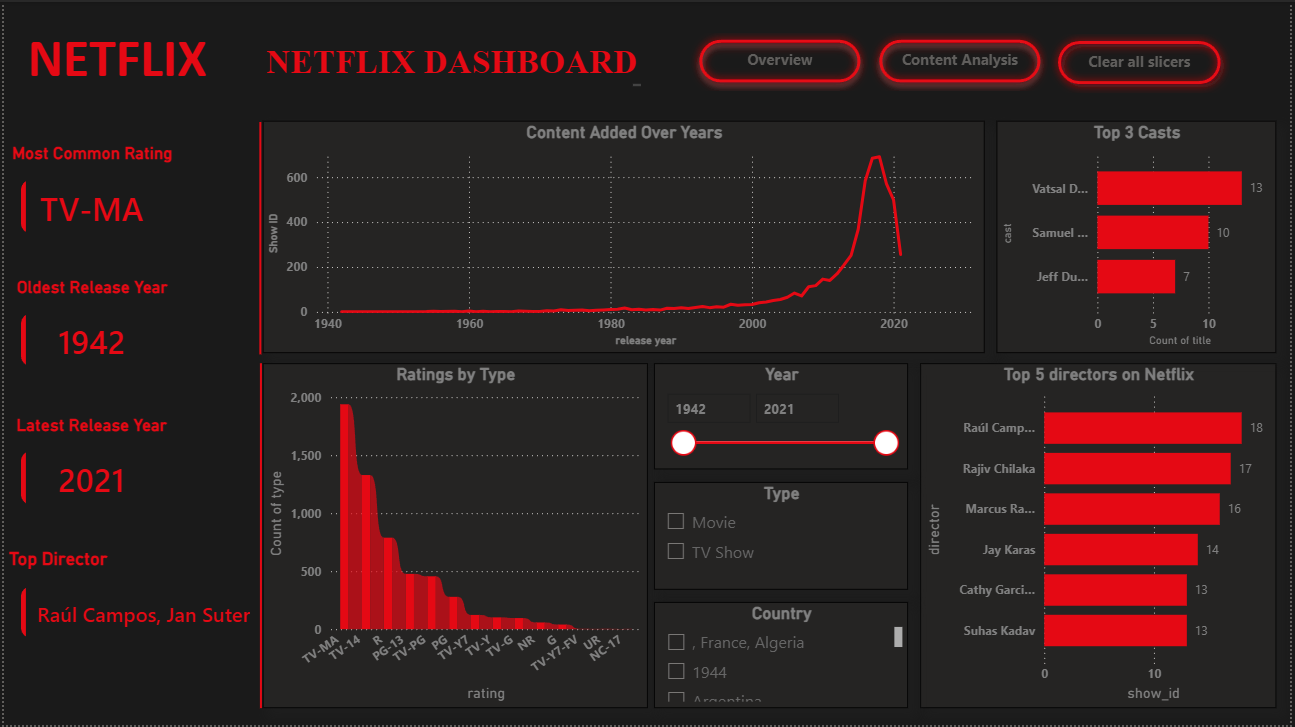

The page's visual inventory and layout, read from the dashboard file:
{"tool":"powerbi","page":{"name":"Content Analysis","canvas":[1280,720],"ordinal":1},"visuals":[{"type":"textbox","title":"NETFLIX","box":[19.2,23.3,218.2,71.4],"z":0},{"type":"cardVisual","title":"Most Common Rating","fields":{"Data":["Netflix_data.Most Common Rating"]},"box":[0,140.6,175.8,108.2],"z":4000},{"type":"lineChart","title":"Content Added Over Years","fields":{"Category":["Netflix_data.release_year"],"Y":["CountNonNull(Netflix_data.show_id)"]},"box":[257.1,118.6,718.6,231.4],"z":5000},{"type":"clusteredBarChart","title":"Top 5 directors on Netflix","fields":{"Y":["CountNonNull(Netflix_data.show_id)"],"Category":["Netflix_data.director"]},"box":[911.4,360,354.3,342.9],"z":6000},{"type":"ribbonChart","title":"Ratings by Type","fields":{"Category":["Netflix_data.rating"],"Y":["CountNonNull(Netflix_data.type)"]},"box":[257.1,360,382.9,342.9],"z":7000},{"type":"clusteredBarChart","title":"Top 3 Casts","fields":{"Category":["Netflix_data.cast"],"Y":["CountNonNull(Netflix_data.title)"]},"box":[987.1,118.6,278.6,231.4],"z":8000},{"type":"textbox","title":"NETFLIX DASHBOARD","box":[256.6,39.8,382.8,49.4],"z":9000},{"type":"cardVisual","title":"Top Director","fields":{"Data":["Min(Netflix_data.director)"]},"box":[0,543.5,278.5,106.8],"z":10000},{"type":"cardVisual","title":"Latest Release Year","fields":{"Data":["Netflix_data.Latest Release Year"]},"box":[0,411,174.4,108.2],"z":11000},{"type":"cardVisual","title":"Oldest Release Year","fields":{"Data":["Netflix_data.Oldest Release Year"]},"box":[0,273.1,175.8,106.8],"z":12000},{"type":"slicer","title":"Year","fields":{"Values":["Netflix_data.release_year"]},"box":[647.1,360,252.9,105.7],"z":13000},{"type":"slicer","title":"Type","fields":{"Values":["Netflix_data.type"]},"box":[647.1,477.1,252.9,107.1],"z":14000},{"type":"slicer","title":"Country","fields":{"Values":["Netflix_data.country"]},"box":[647.1,597.1,252.9,105.7],"z":15000},{"type":"shape","box":[223.1,119,64.9,231.2],"z":15003},{"type":"shape","box":[224.4,359.6,63.5,343.4],"z":15004},{"type":"actionButton","box":[683.4,28.8,178.4,60.4],"z":15005},{"type":"actionButton","box":[861.8,28.8,178.4,60.4],"z":15006},{"type":"actionButton","box":[1039.6,29.7,179.8,60.8],"z":15007}]}

Visuals, with their boxes in screenshot pixels (x1, y1, x2, y2), scaled from the page's 1280x720 canvas onto the 1295x727 screenshot:
"NETFLIX" textbox: locate(19, 24, 240, 96)
"Most Common Rating" cardVisual: locate(0, 142, 178, 251)
"Content Added Over Years" lineChart: locate(260, 120, 987, 353)
"Top 5 directors on Netflix" clusteredBarChart: locate(922, 364, 1281, 710)
"Ratings by Type" ribbonChart: locate(260, 364, 648, 710)
"Top 3 Casts" clusteredBarChart: locate(999, 120, 1281, 353)
"NETFLIX DASHBOARD" textbox: locate(260, 40, 647, 90)
"Top Director" cardVisual: locate(0, 549, 282, 657)
"Latest Release Year" cardVisual: locate(0, 415, 176, 524)
"Oldest Release Year" cardVisual: locate(0, 276, 178, 384)
"Year" slicer: locate(655, 364, 911, 470)
"Type" slicer: locate(655, 482, 911, 590)
"Country" slicer: locate(655, 603, 911, 710)
shape: locate(226, 120, 291, 354)
shape: locate(227, 363, 291, 710)
actionButton: locate(691, 29, 872, 90)
actionButton: locate(872, 29, 1052, 90)
actionButton: locate(1052, 30, 1234, 91)
